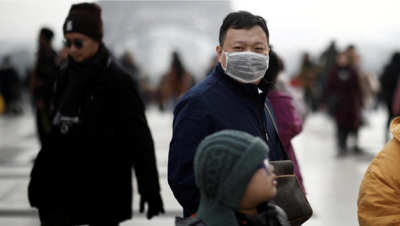with_mask: (222, 40, 272, 84)
without_mask: (250, 159, 279, 203), (63, 34, 95, 63)
